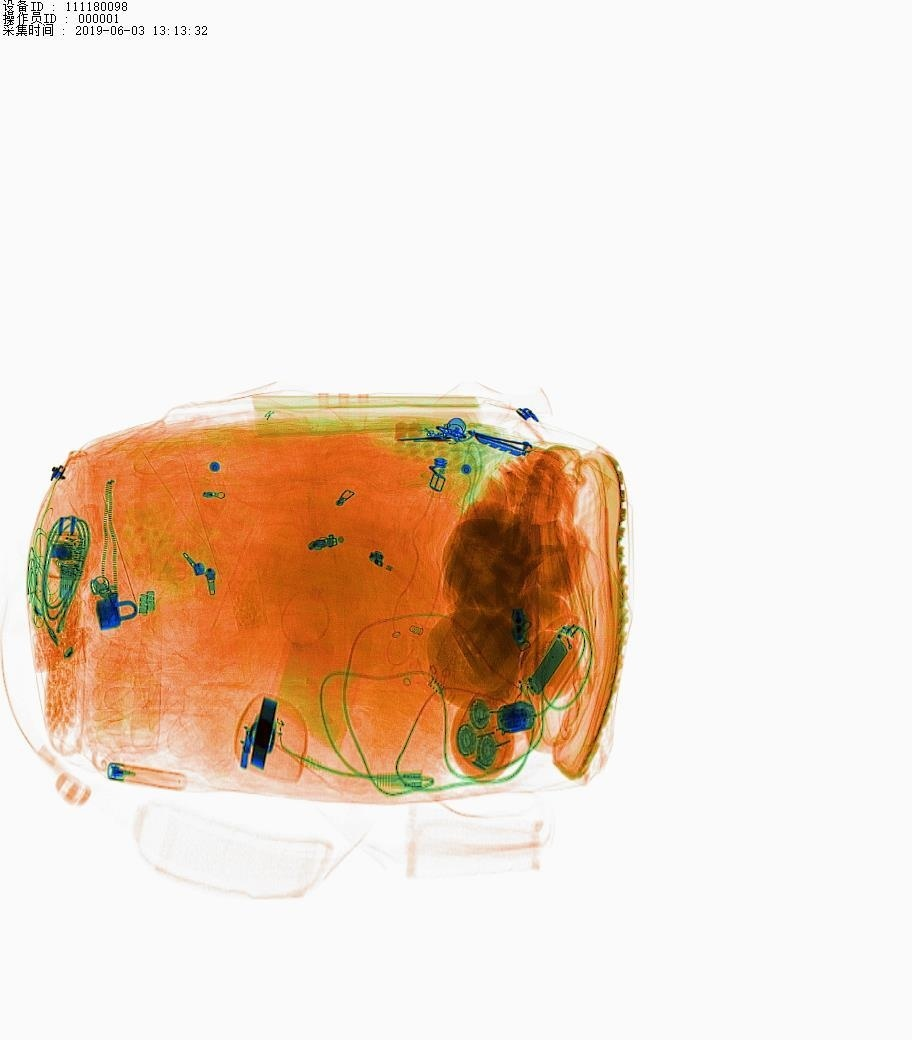NonmetallicFire: (94, 751, 207, 809)
